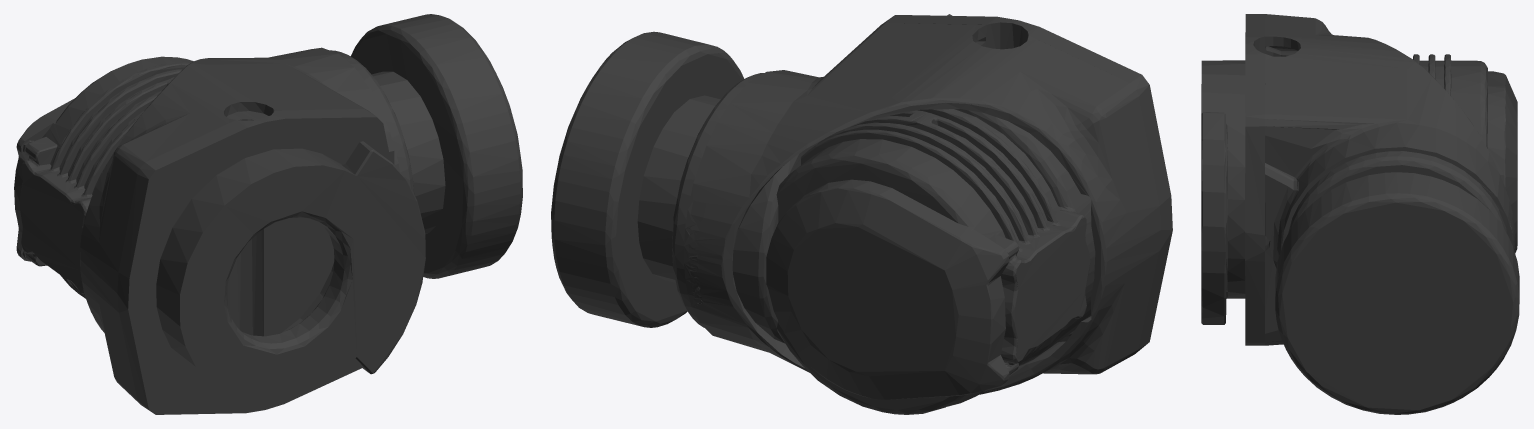
Rendered from rear_right_hip.dae.
The picture shows the model from 3 angles, left to right: view 1: azimuth 30°, elevation 25°; view 2: azimuth 150°, elevation 25°; view 3: azimuth 270°, elevation 25°; orthographic projection. The views are drawn at different scales.
Visible parts, largest first — view 1: rear_right_hip; view 2: rear_right_hip; view 3: rear_right_hip.
Boxes of the visible parts, <box> form: rear_right_hip: <box>14,14,522,414</box>; rear_right_hip: <box>551,14,1172,414</box>; rear_right_hip: <box>1201,14,1519,414</box>.
Bounding box in the file's own units: 0.1417 × 0.1001 × 0.0941.
